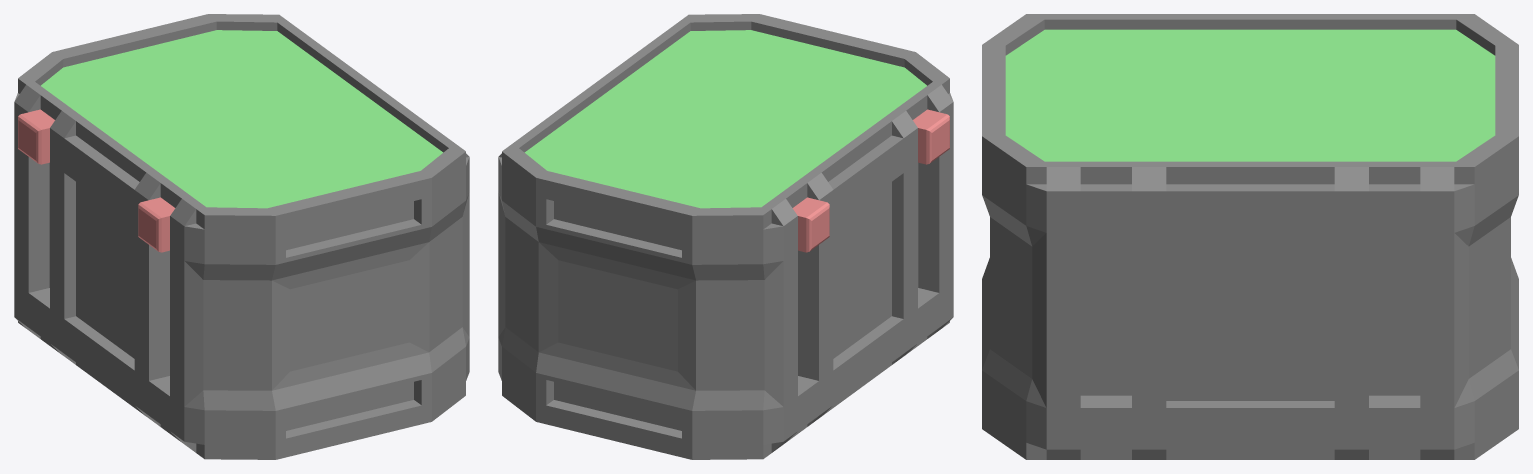
File: Container.fbx
The picture shows the model from 3 angles, left to right: view 1: azimuth 30°, elevation 25°; view 2: azimuth 150°, elevation 25°; view 3: azimuth 270°, elevation 25°; orthographic projection. The views are drawn at different scales.
Parts seen in each view (by area): view 1: SM_Container; view 2: SM_Container; view 3: SM_Container.
Part boxes in pixels (left/top/right/bottom): SM_Container: left=14, top=14, right=469, bottom=459; SM_Container: left=498, top=14, right=953, bottom=459; SM_Container: left=982, top=14, right=1518, bottom=459.
Bounding box in the file's own units: 88.36 × 69.32 × 115.
